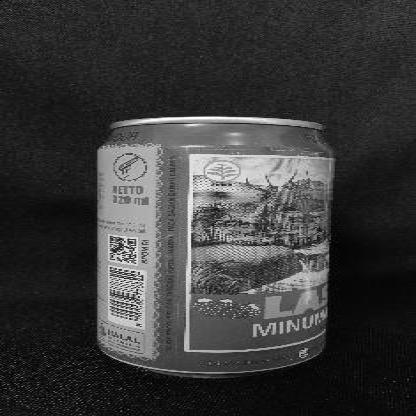alumunium_can: (96, 116, 336, 379)
